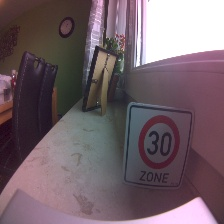dreisiger_zone: (122, 101, 194, 190)
